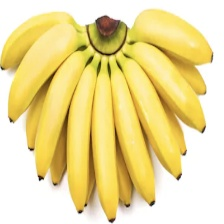banana: (25, 45, 181, 200)
